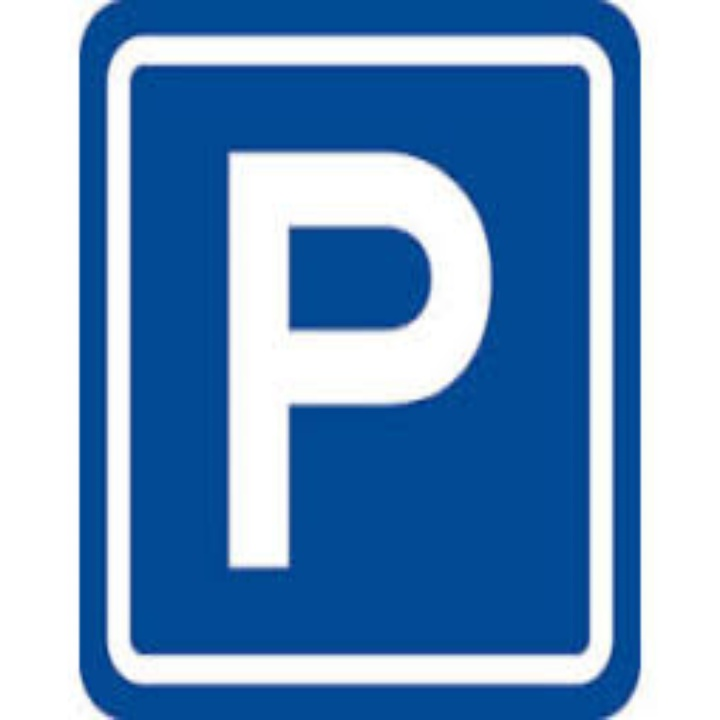parking: (213, 138, 501, 585)
